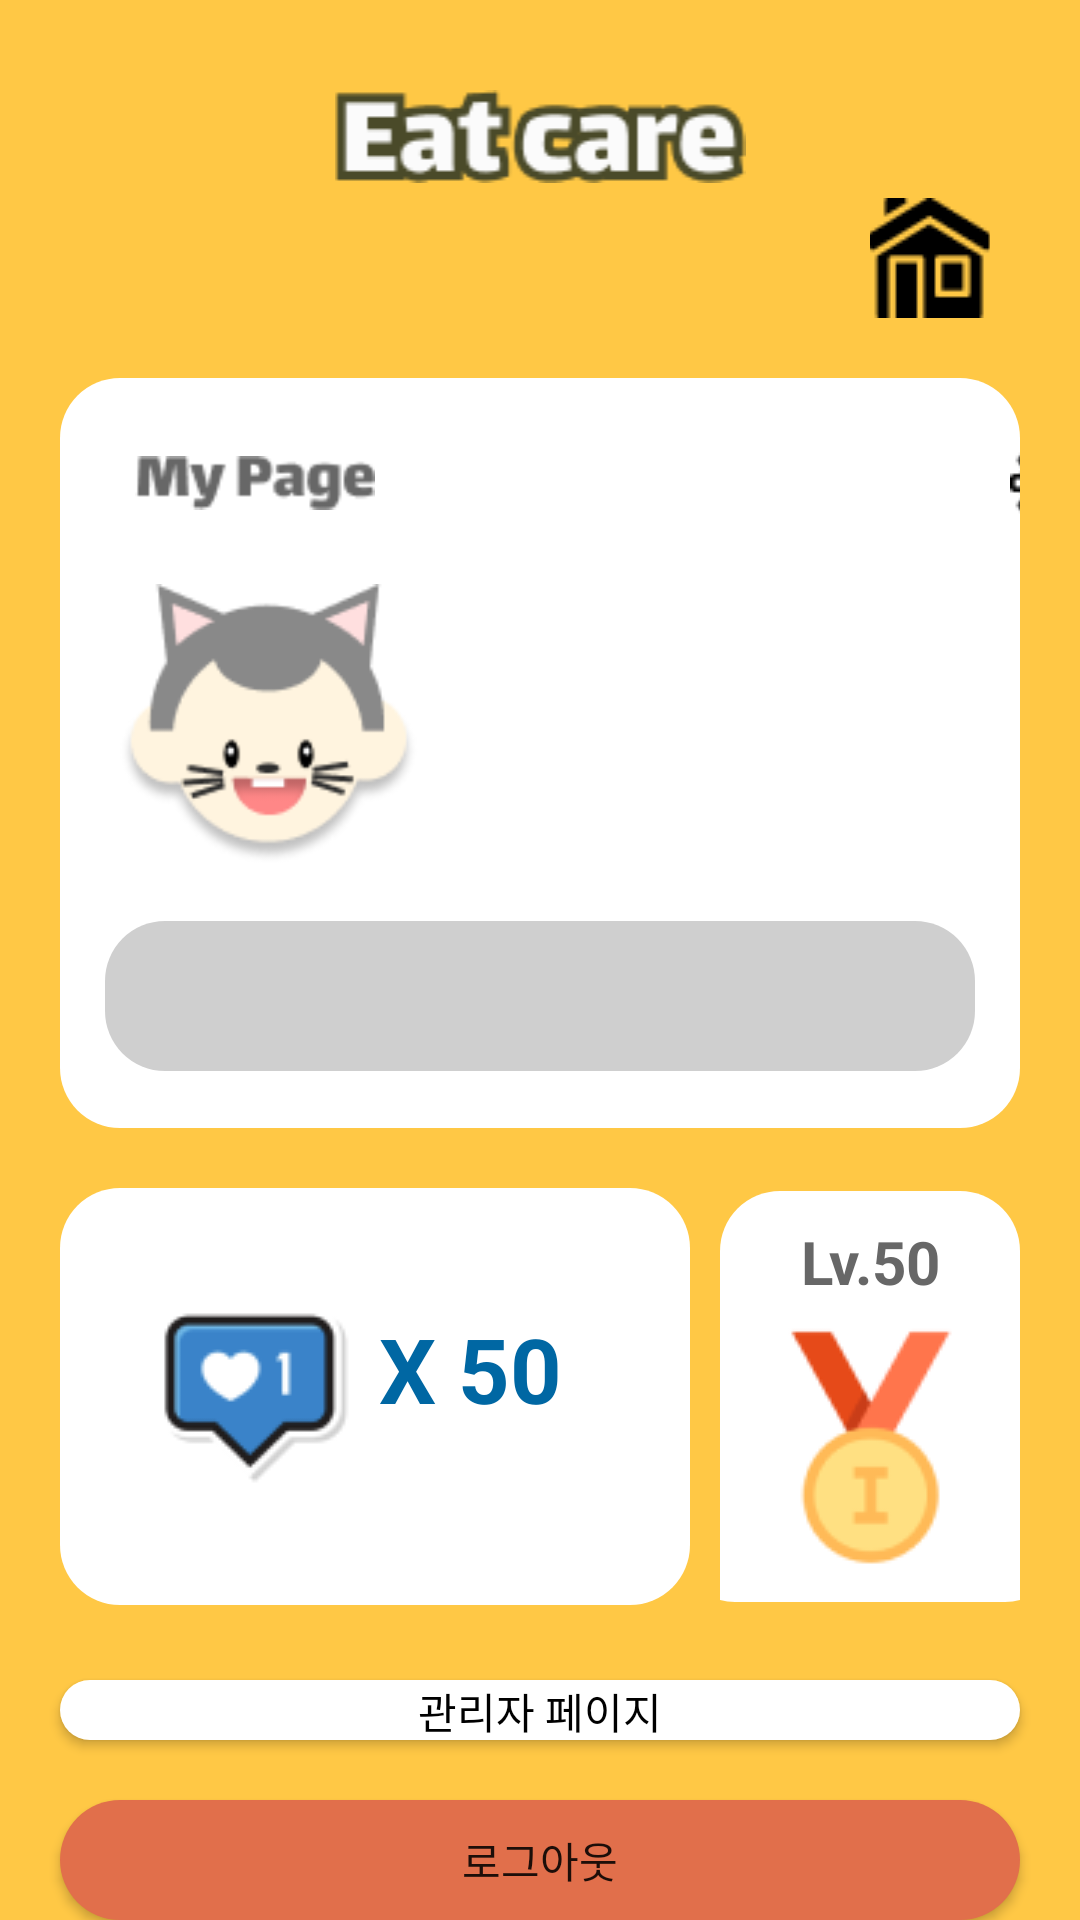

Icon click points for this 1080 x 1920 phone screenshot, format [x,y]:
cat: [269,719]
home: [930,258]
